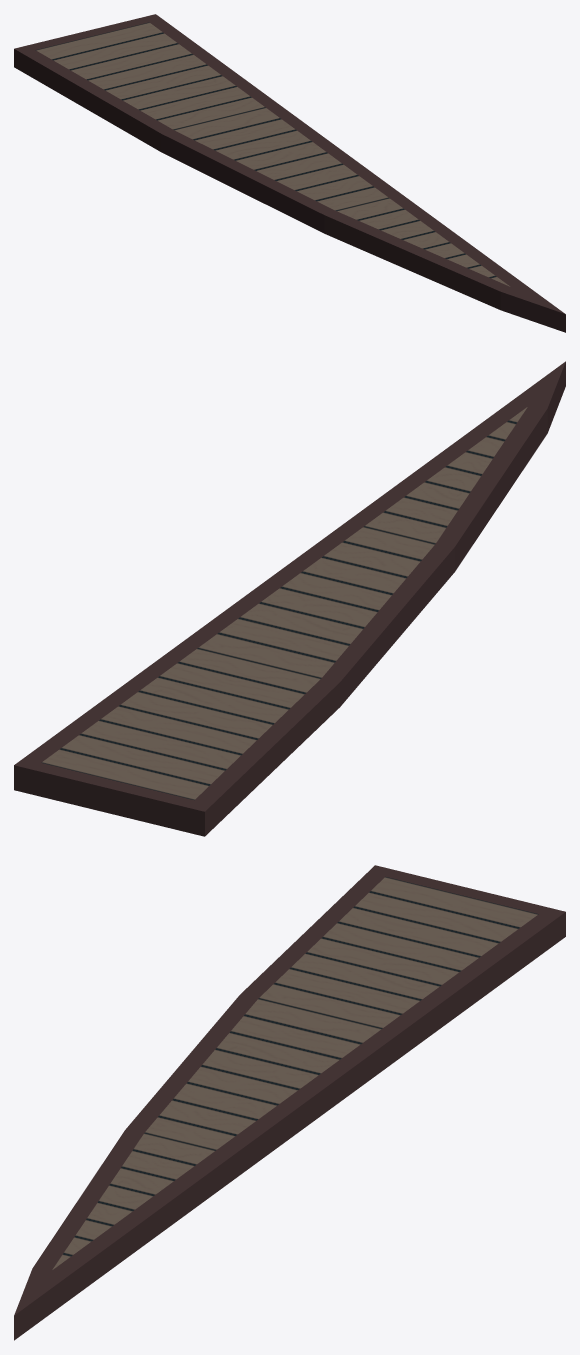
The model's file is SW_ENV_EL_TrackBase_Walkway_SingleToDouble_Central.fbx.
3 renders of one model, top to bottom at view 1: azimuth 30°, elevation 25°; view 2: azimuth 150°, elevation 25°; view 3: azimuth 330°, elevation 25°, orthographic. The views are drawn at different scales.
Parts seen in each view (by area): view 1: SW_ENV_EL_TrackBase_Walkway_SingleToDouble_Central; view 2: SW_ENV_EL_TrackBase_Walkway_SingleToDouble_Central; view 3: SW_ENV_EL_TrackBase_Walkway_SingleToDouble_Central.
Part boxes in pixels (bbox=[...]): SW_ENV_EL_TrackBase_Walkway_SingleToDouble_Central: bbox=[14, 14, 565, 332]; SW_ENV_EL_TrackBase_Walkway_SingleToDouble_Central: bbox=[14, 361, 565, 836]; SW_ENV_EL_TrackBase_Walkway_SingleToDouble_Central: bbox=[14, 865, 565, 1340].
Bounding box in the file's own units: 160 × 20 × 802.
